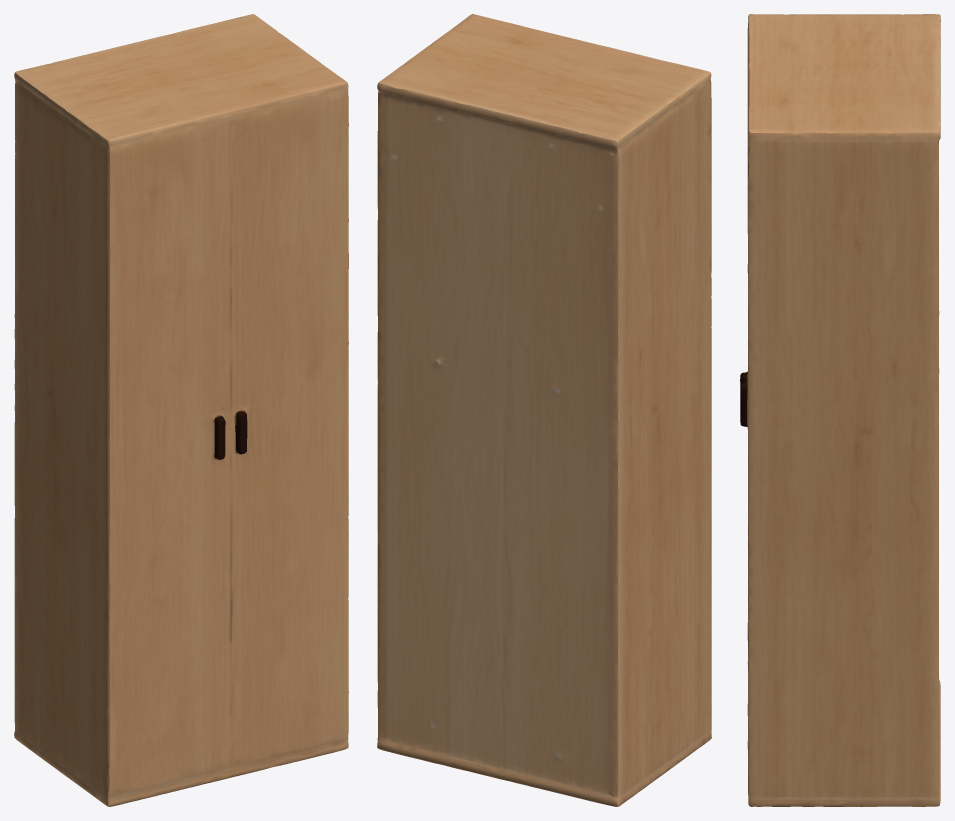
Rendered from cabinet_lux3d_g1_30475.glb.
3 views of the same model, side by side, from view 1: azimuth 30°, elevation 25°; view 2: azimuth 150°, elevation 25°; view 3: azimuth 270°, elevation 25° (orthographic).
Parts seen in each view (by area): view 1: world; view 2: world; view 3: world.
Part boxes in pixels (bbox=[...]): world: bbox=[14, 14, 348, 806]; world: bbox=[377, 14, 711, 806]; world: bbox=[740, 14, 940, 806].
Bounding box in the file's own units: 0.6823 × 1.8 × 0.4845.
Materials: 1 (1 with a texture image).
